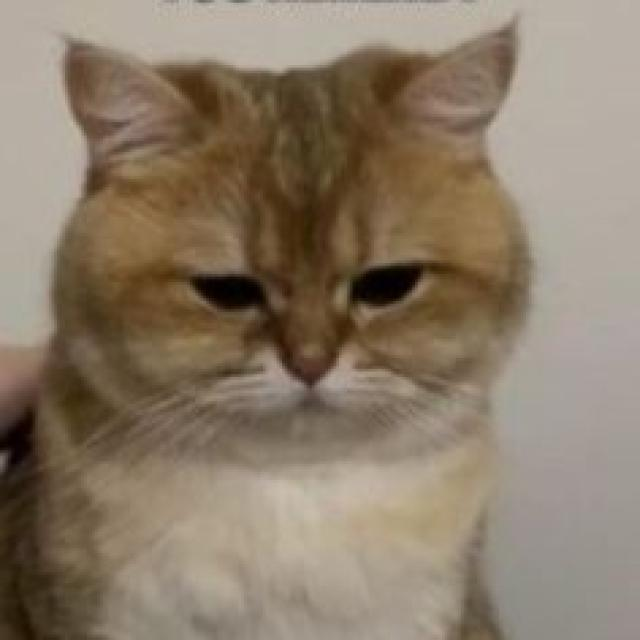Sad: (136, 205, 477, 458)
